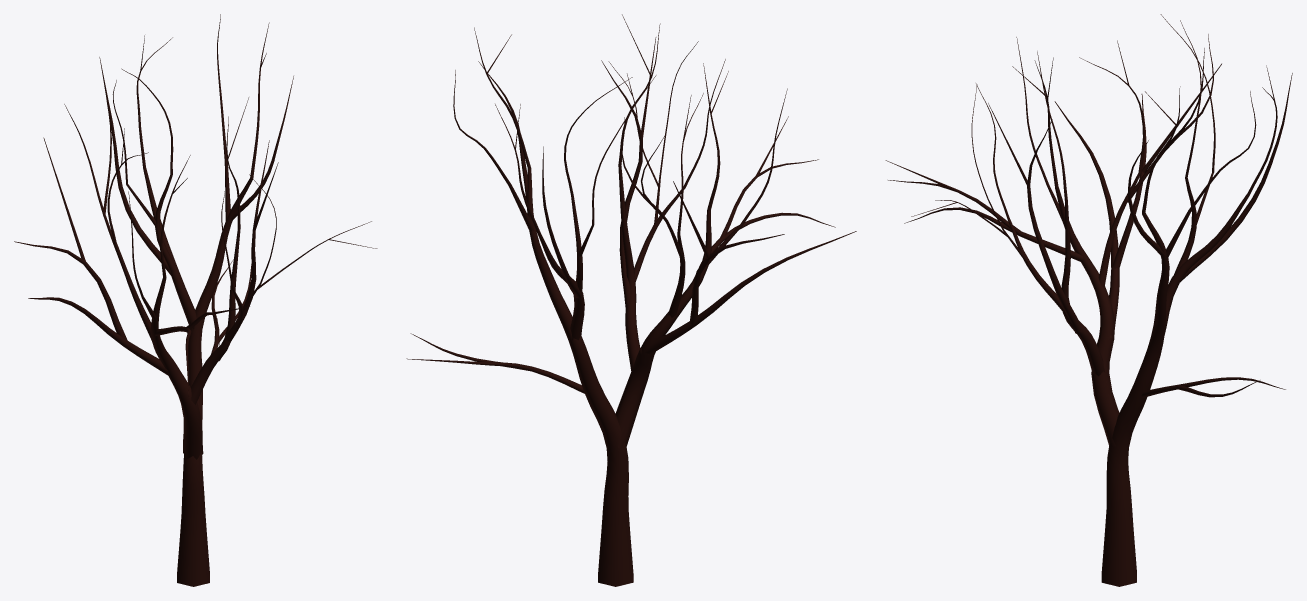
The model's file is Tree.obj.
The picture shows the model from 3 angles, left to right: view 1: azimuth 30°, elevation 25°; view 2: azimuth 150°, elevation 25°; view 3: azimuth 270°, elevation 25°; orthographic projection. The views are drawn at different scales.
Size of the model in its own units: 3.9 by 5.92 by 4.
